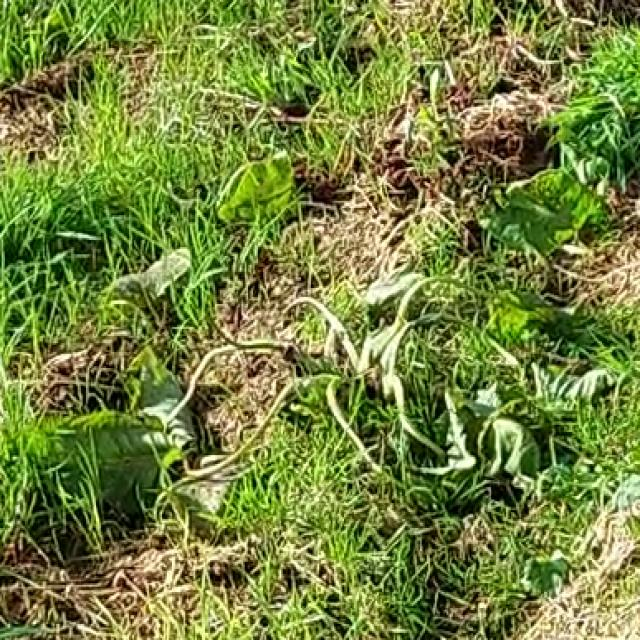organic waste: (0, 127, 628, 565)
